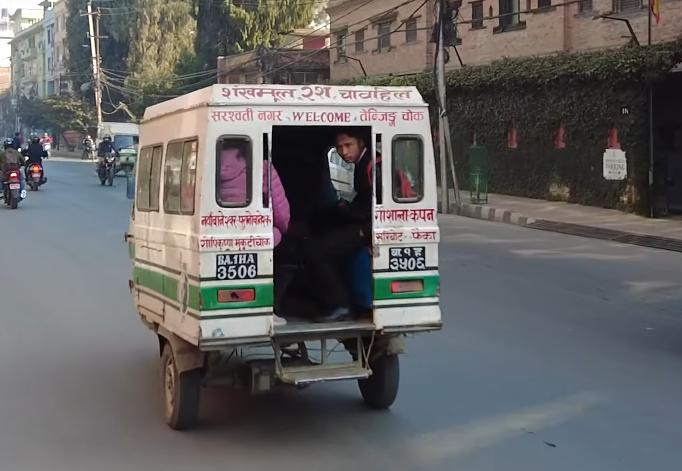bike: (3, 161, 28, 215), (96, 141, 119, 187)
scooter: (20, 142, 49, 194)
tempo: (109, 79, 455, 426), (97, 120, 141, 174)
